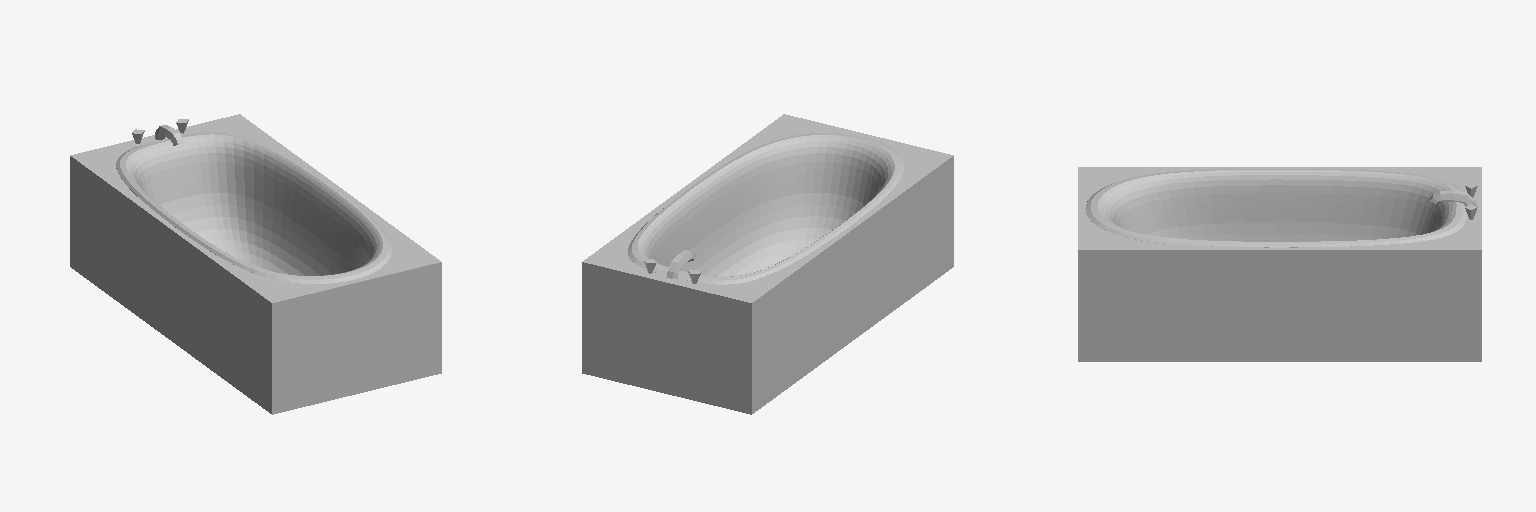
Rendered from fittedBath.obj.
3 views of the same model, side by side, from view 1: azimuth 30°, elevation 25°; view 2: azimuth 150°, elevation 25°; view 3: azimuth 270°, elevation 25° (orthographic).
Parts seen in each view (by area): view 1: Tour, Baignore; view 2: Tour, Baignore; view 3: Tour, Baignore.
Part boxes in pixels (x1,y1,x2,y2): Tour: (70, 114, 441, 414); Baignore: (116, 132, 391, 283); Tour: (582, 114, 953, 414); Baignore: (628, 133, 903, 284); Tour: (1078, 167, 1481, 361); Baignore: (1085, 169, 1467, 247).
Bounding box in the file's own units: 1.65 × 1.19 × 3.4.